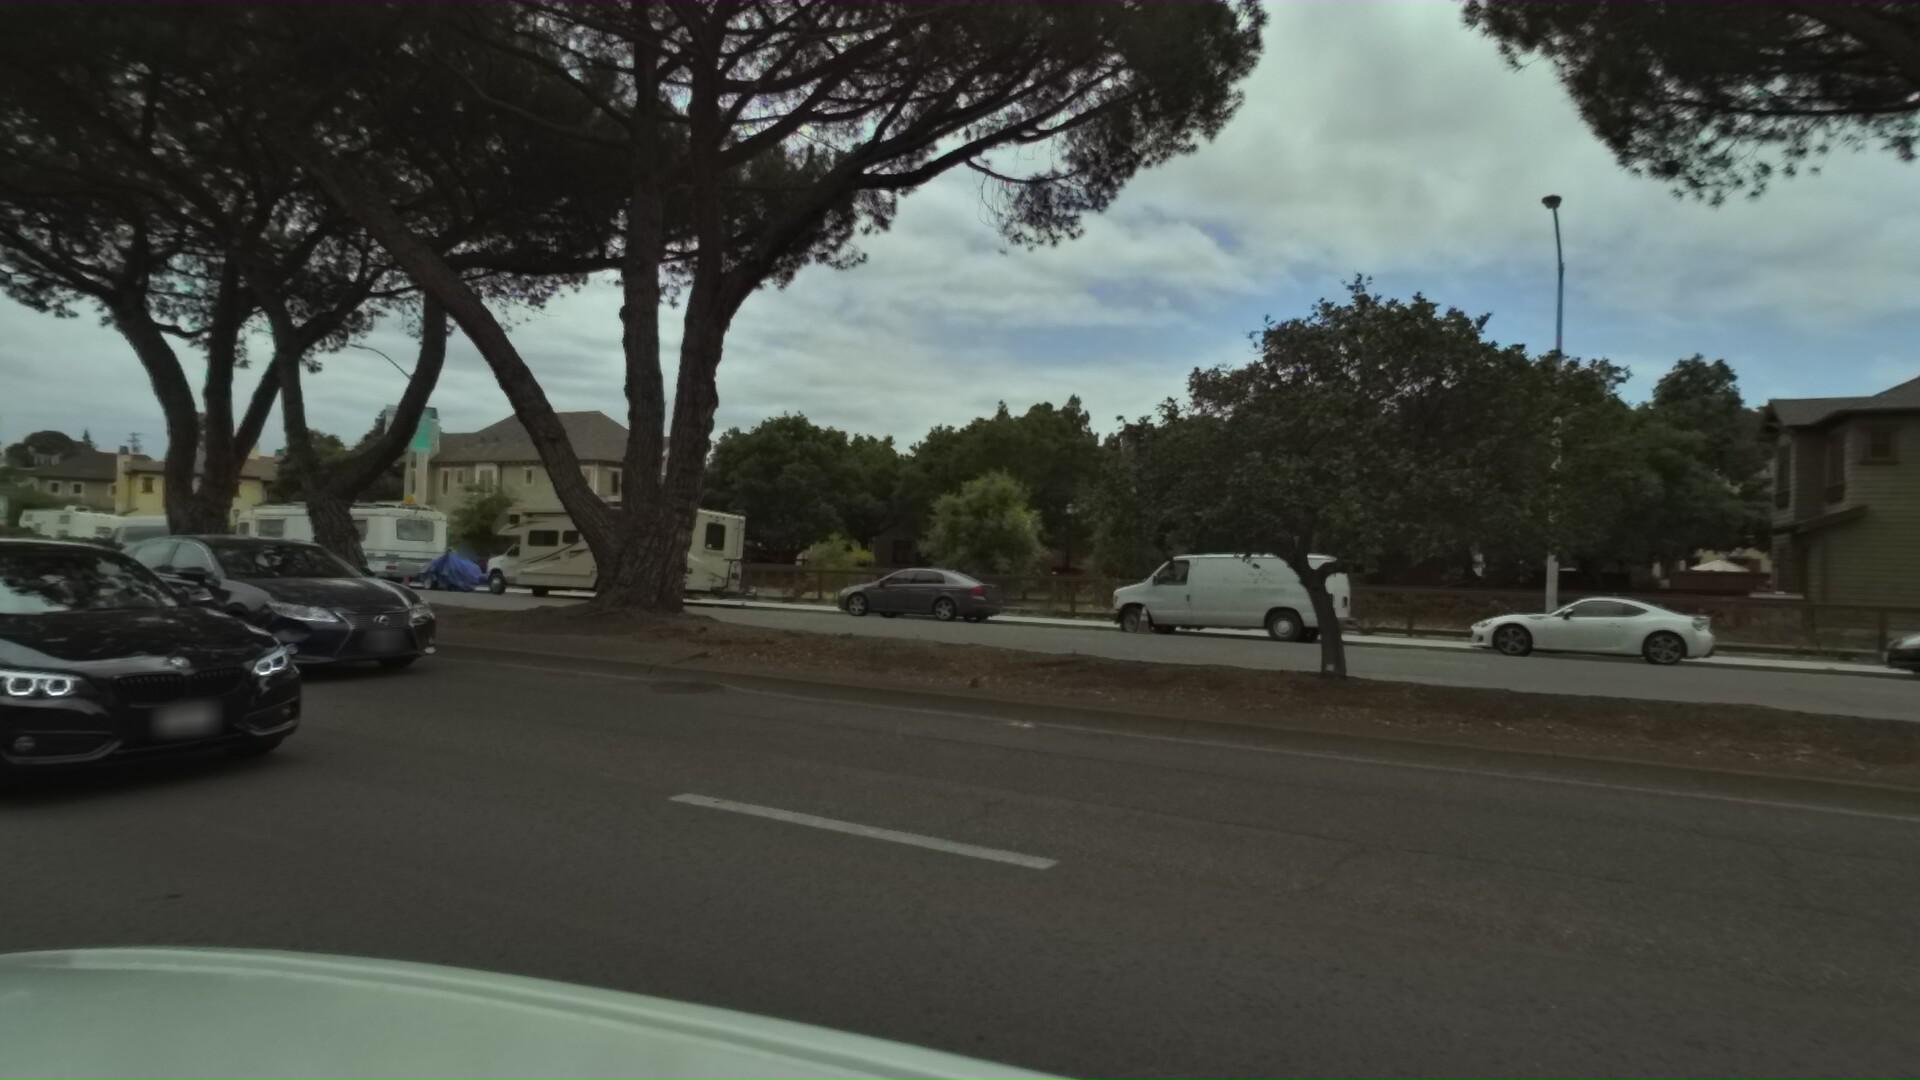car: (0, 495, 364, 836), (47, 491, 473, 696), (1065, 537, 1337, 649), (1418, 582, 1683, 673), (798, 555, 994, 630), (1812, 584, 1920, 709), (83, 505, 231, 578)
other_vehicle: (458, 492, 767, 609), (214, 491, 451, 589), (9, 502, 141, 570), (381, 535, 483, 593)
